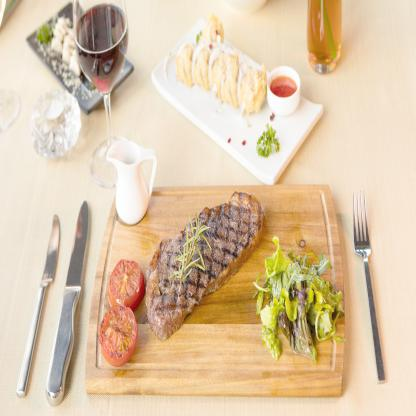Carne: (142, 182, 267, 340)
